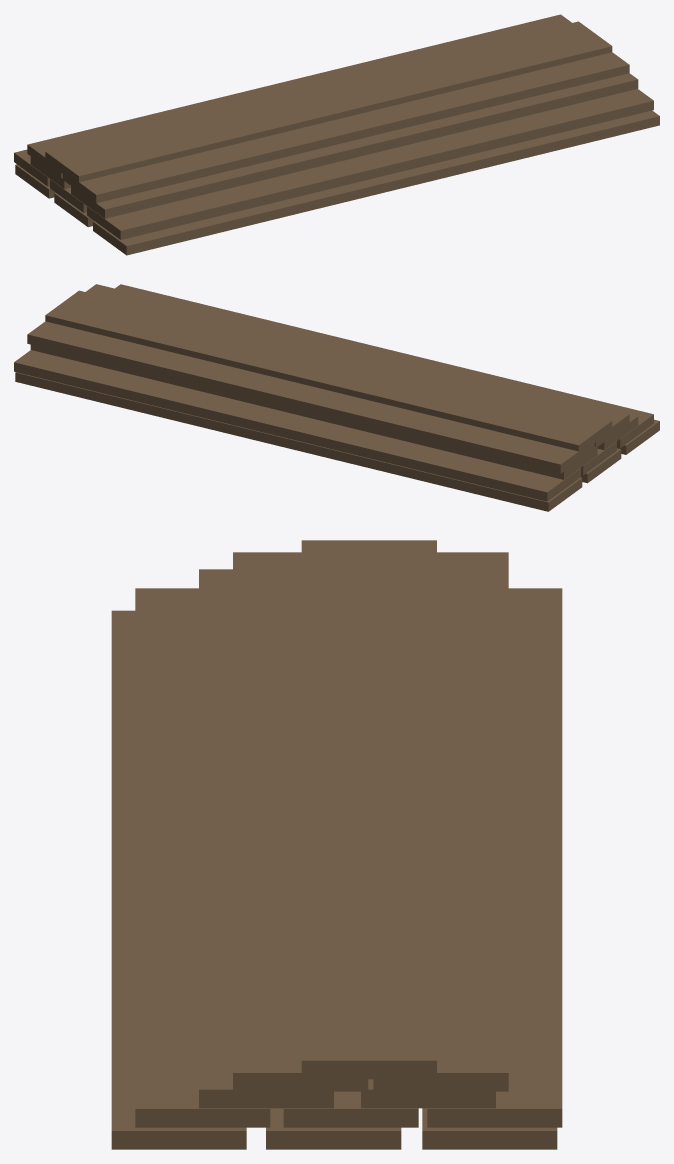
The model's file is planks.fbx.
3 renders of one model, top to bottom at view 1: azimuth 30°, elevation 25°; view 2: azimuth 150°, elevation 25°; view 3: azimuth 270°, elevation 25°, orthographic. The views are drawn at different scales.
Visible parts, largest first — view 1: Cube.001; view 2: Cube.001; view 3: Cube.001.
Boxes of the visible parts, box(x1,y1,x2,y2) form: Cube.001: box(14, 14, 659, 255); Cube.001: box(14, 284, 659, 511); Cube.001: box(111, 540, 562, 1149).
Bounding box in the file's own units: 526 × 41.95 × 193.
